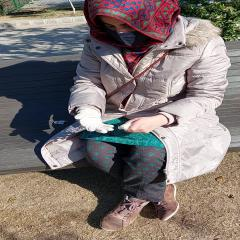gloved: (74, 107, 115, 134)
not-gloved: (123, 113, 169, 133)
